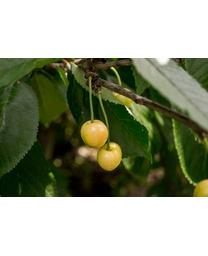cherry: (79, 120, 109, 148), (97, 141, 123, 173)
